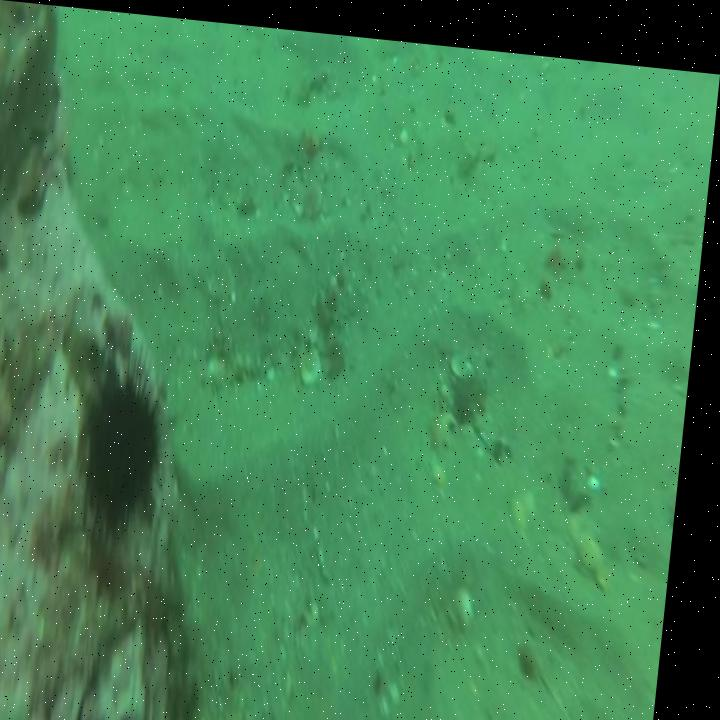echinus: (80, 360, 177, 549)
